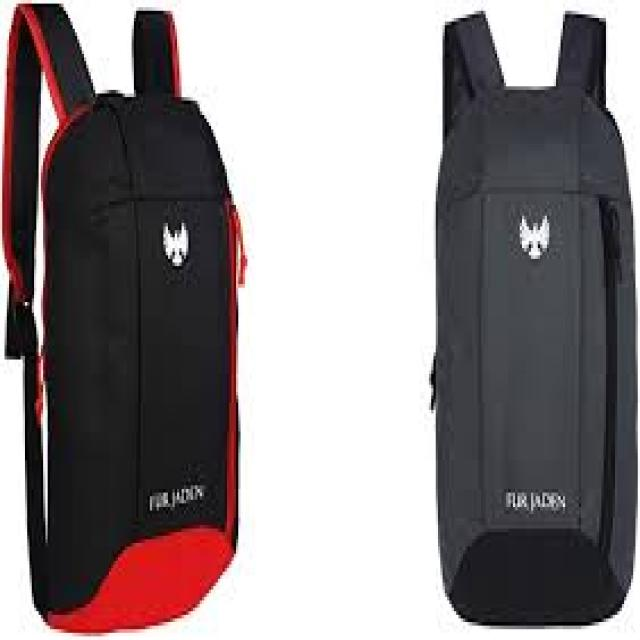backpack: (1, 1, 248, 634), (428, 8, 639, 627)
